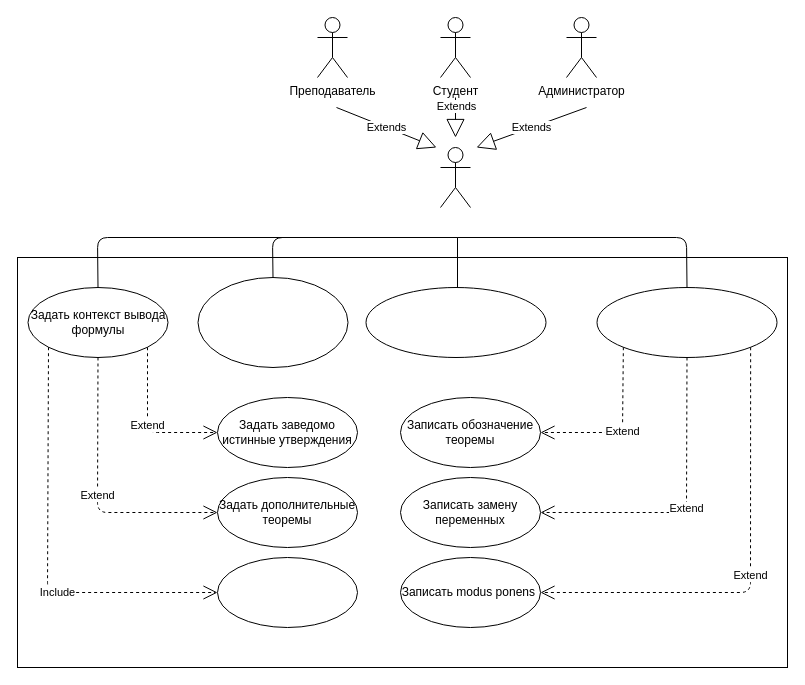
This 805x685 diagram has some shape labels left out. Here are the shapes that lost their labels. From the top down, the centre of each, then its label:
At point (455, 177): "Пользователь".
At point (272, 322): "Осуществить шаг вывода формулы по записанному выражению".
At point (455, 322): "Просмотреть формулу, полученную в результате шага вывода".
At point (686, 322): "Записать выражение в поле для записи обоснования".
At point (287, 592): "Задать исчисление".
